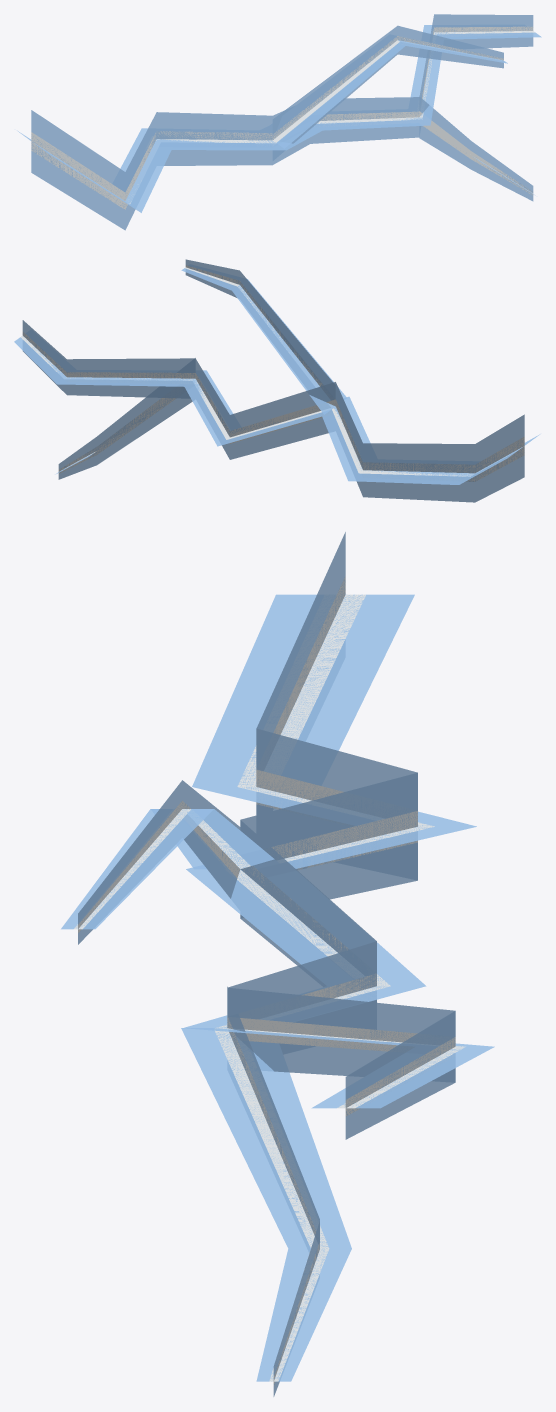
The model's file is Fx_Spark.glb.
The picture shows the model from 3 angles, top to bottom: view 1: azimuth 30°, elevation 25°; view 2: azimuth 150°, elevation 25°; view 3: azimuth 270°, elevation 25°; orthographic projection. The views are drawn at different scales.
Visible parts, largest first — view 1: Fx_Spark; view 2: Fx_Spark; view 3: Fx_Spark.
Boxes of the visible parts, <box> form: Fx_Spark: <box>17,14,541,230</box>; Fx_Spark: <box>14,259,540,502</box>; Fx_Spark: <box>61,532,494,1396</box>.
Bounding box in the file's own units: 1 × 0.4406 × 0.3749.
